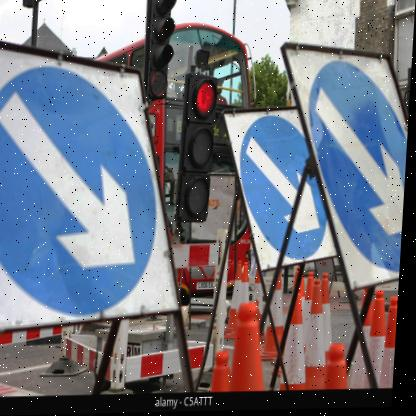Keep right: (0, 48, 167, 325), (291, 41, 414, 292), (222, 106, 336, 267)
